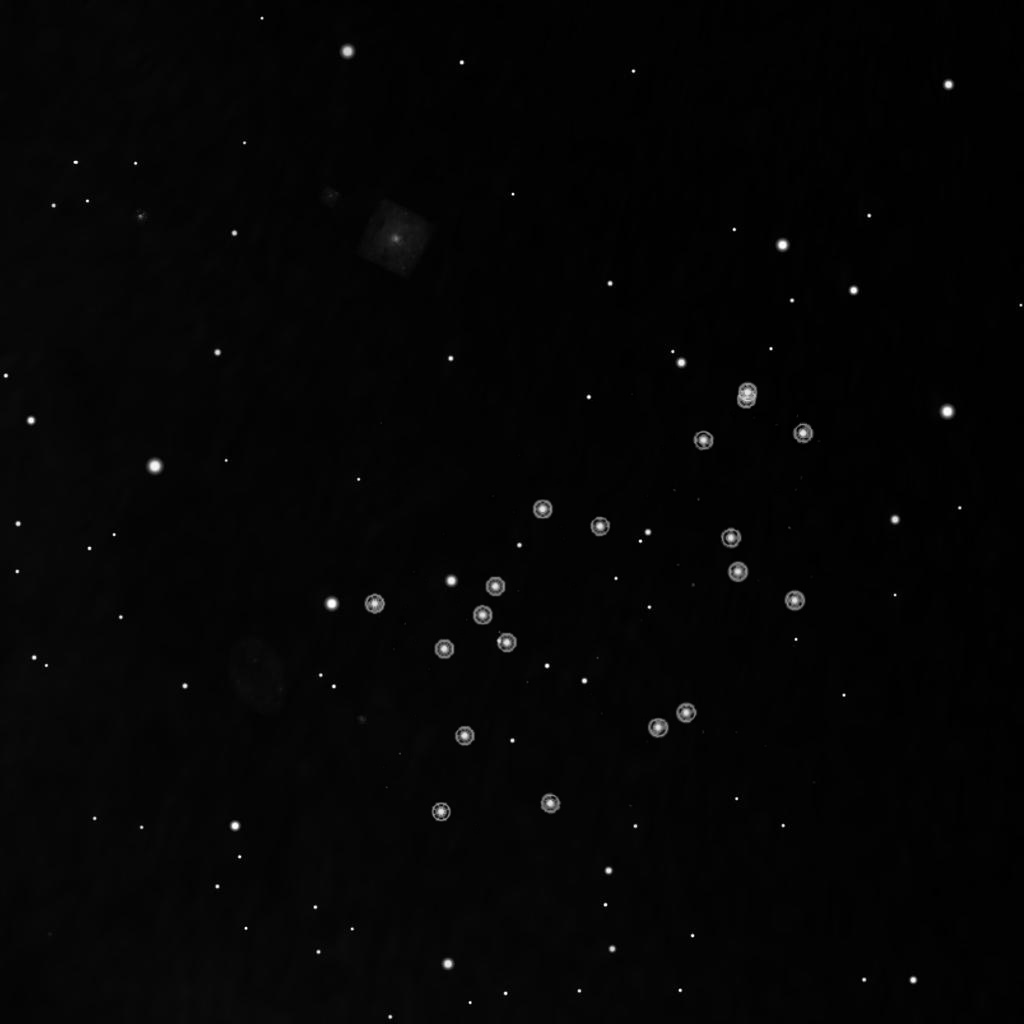canis_major: (424, 490, 615, 669)
